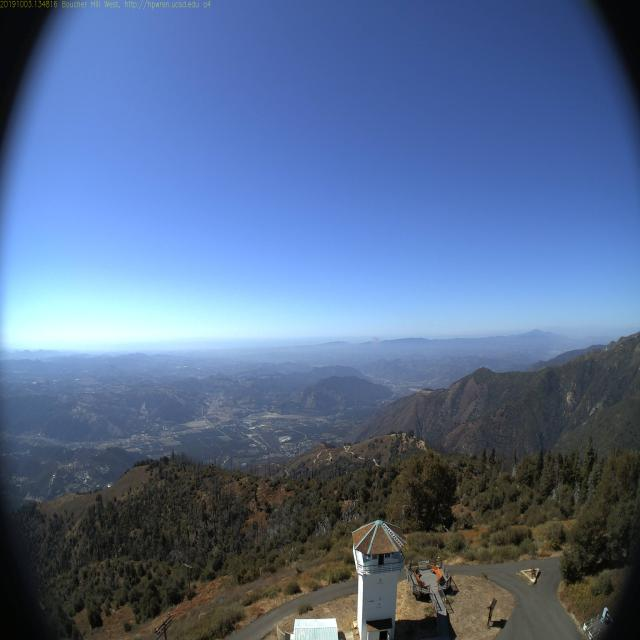smoke: (366, 332, 382, 352)
